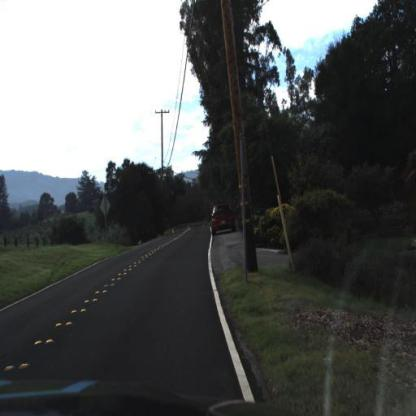car: (207, 194, 235, 240)
